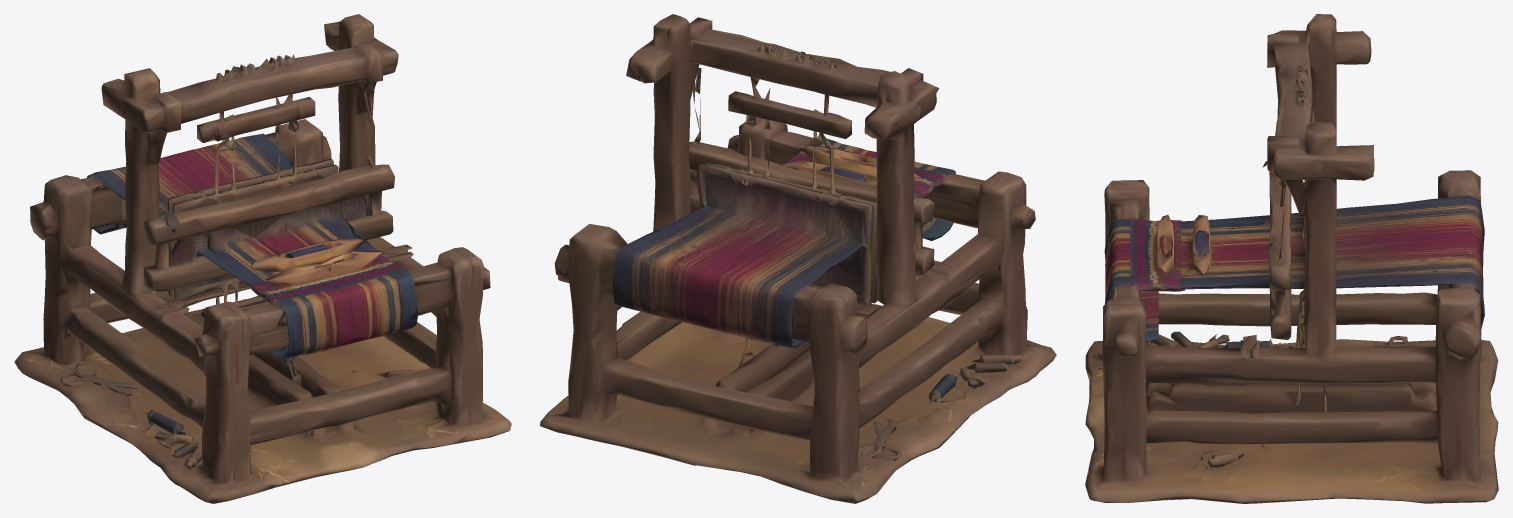
File: craft_market_loom.glb
3 renders of one model, left to right at view 1: azimuth 30°, elevation 25°; view 2: azimuth 150°, elevation 25°; view 3: azimuth 270°, elevation 25°, orthographic. The views are drawn at different scales.
Parts seen in each view (by area): view 1: tripo_node_04a76c68-4917-4cf0-aa06-1b0bc08cd983; view 2: tripo_node_04a76c68-4917-4cf0-aa06-1b0bc08cd983; view 3: tripo_node_04a76c68-4917-4cf0-aa06-1b0bc08cd983.
Boxes of the visible parts, box(x1,y1,x2,y2) form: tripo_node_04a76c68-4917-4cf0-aa06-1b0bc08cd983: box(14, 14, 511, 503); tripo_node_04a76c68-4917-4cf0-aa06-1b0bc08cd983: box(540, 14, 1056, 503); tripo_node_04a76c68-4917-4cf0-aa06-1b0bc08cd983: box(1085, 14, 1498, 503).
Bounding box in the file's own units: 0.9169 × 0.9453 × 1.
1 material, 1 textured.
